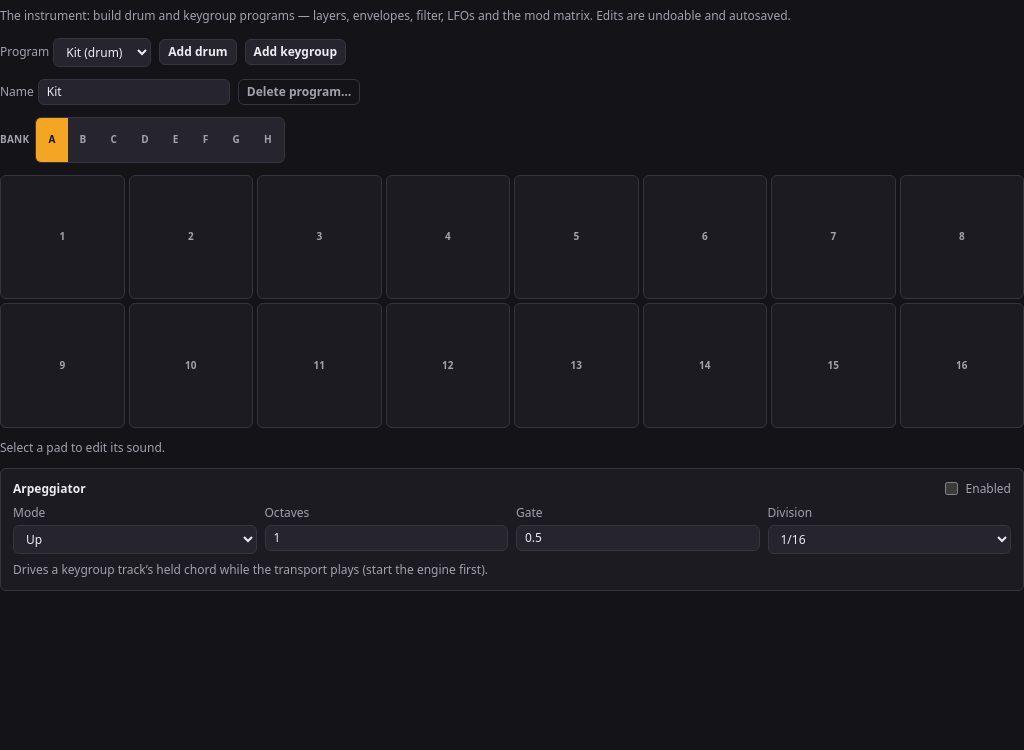
Assigning a sample to a pad from Program Edit (spec §8.5.5) › says a padless pad makes no sound, and names the way out (spec §3.4)
Click the button named "Pad 1 (empty)" at (62, 237), box [0, 174, 124, 299]
(page scrolled)
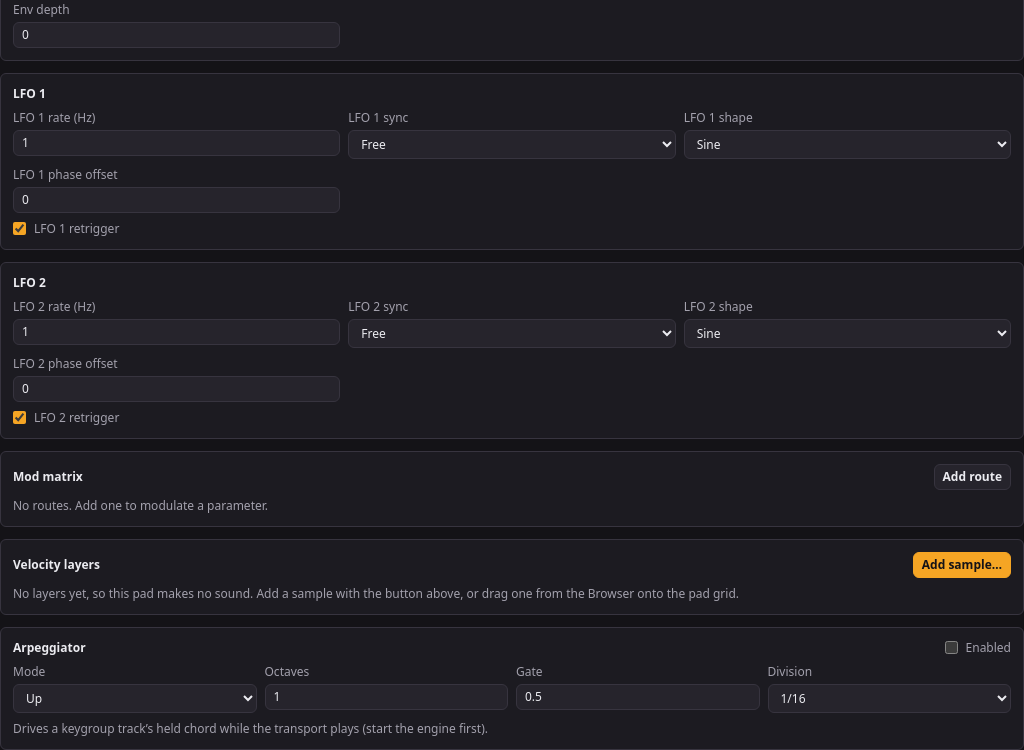
Result: the text with test id "layers-empty" shows "makes no sound" at [13, 584, 739, 602]
Result: the text with test id "layers-empty" shows "Add a sample" at [13, 584, 739, 602]
